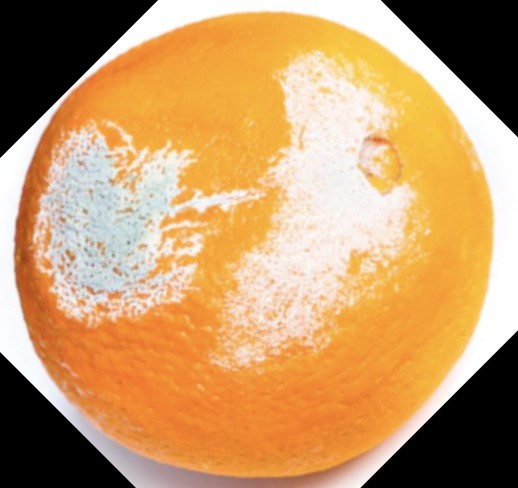rotten_orange: (16, 12, 493, 478)
